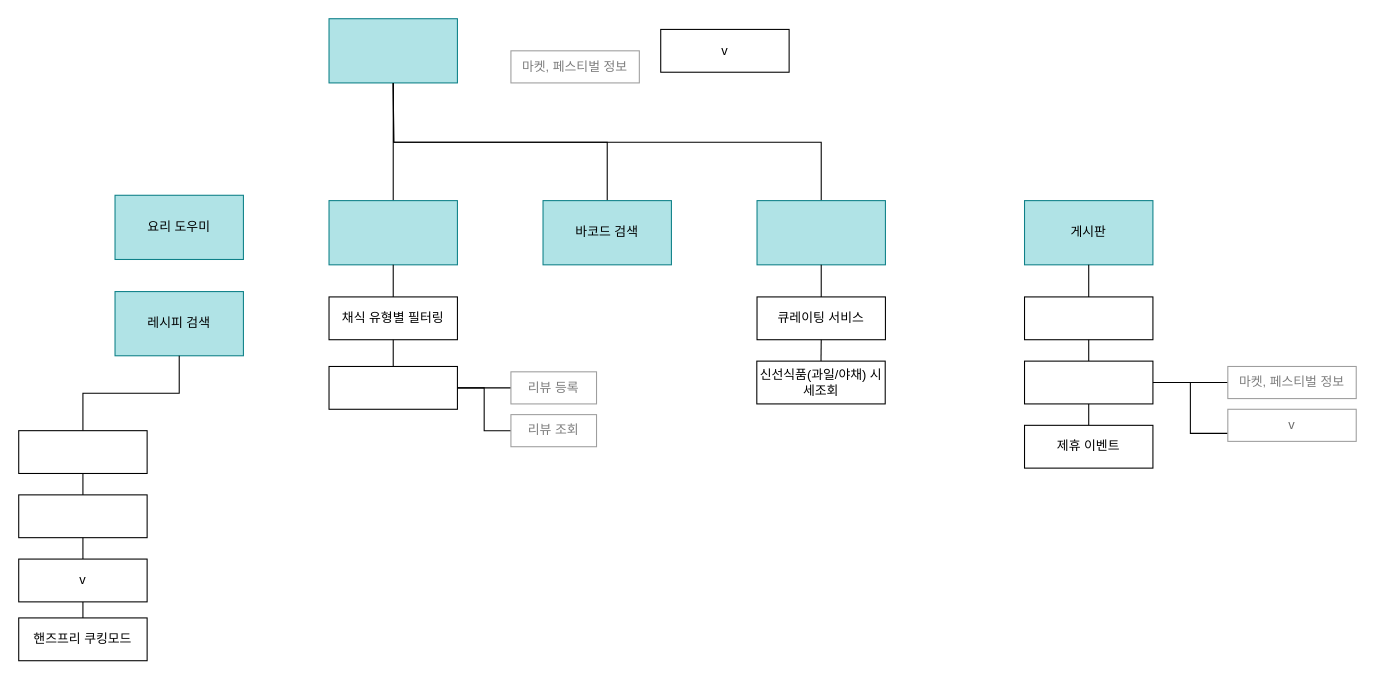
Image size: 1375x679. Some labels were removed from this diagram. Each missing label, with the centre of its shape:
"나라별 검색 (한식, 중식,...)" goes at (x=82, y=516).
"리뷰" goes at (x=392, y=387).
"메인화면" goes at (x=392, y=50).
"비건 관련 정보 제공" goes at (x=1088, y=382).
"사용자 커뮤니티" goes at (x=1088, y=318).
"스토어" goes at (x=820, y=232).
"식당 검색" goes at (x=392, y=232).
"재료별 검색" goes at (x=82, y=451).
